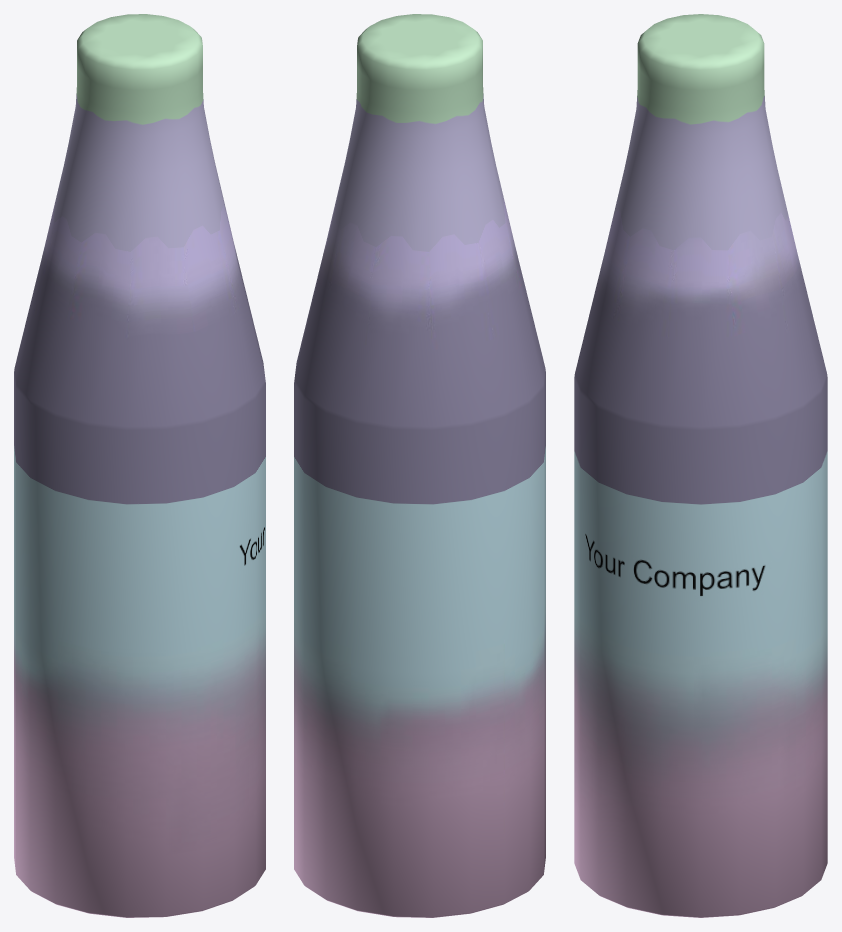
Rendered from bottle.glb.
3 renders of one model, left to right at view 1: azimuth 30°, elevation 25°; view 2: azimuth 150°, elevation 25°; view 3: azimuth 270°, elevation 25°, orthographic.
Visible parts, largest first — view 1: Cylinder; view 2: Cylinder; view 3: Cylinder.
Boxes of the visible parts, <box> form: Cylinder: <box>14,14,265,917</box>; Cylinder: <box>294,14,545,917</box>; Cylinder: <box>574,14,827,917</box>.
Size of the model in its own units: 1.87 by 6.75 by 1.87.
1 material, 1 textured.
